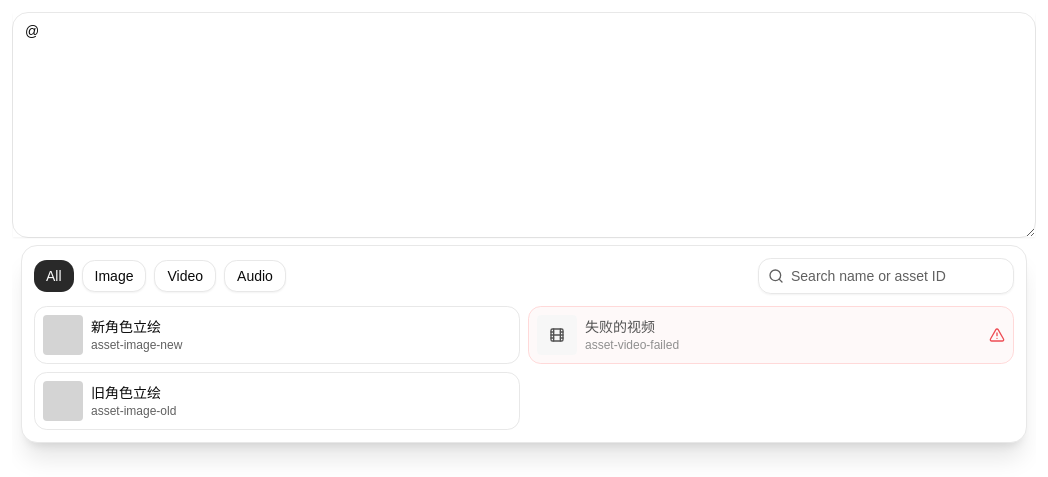
Test: filters by media type and fuzzy searches asset name or id
Click the button "Video" at (185, 276), box [154, 260, 216, 292]
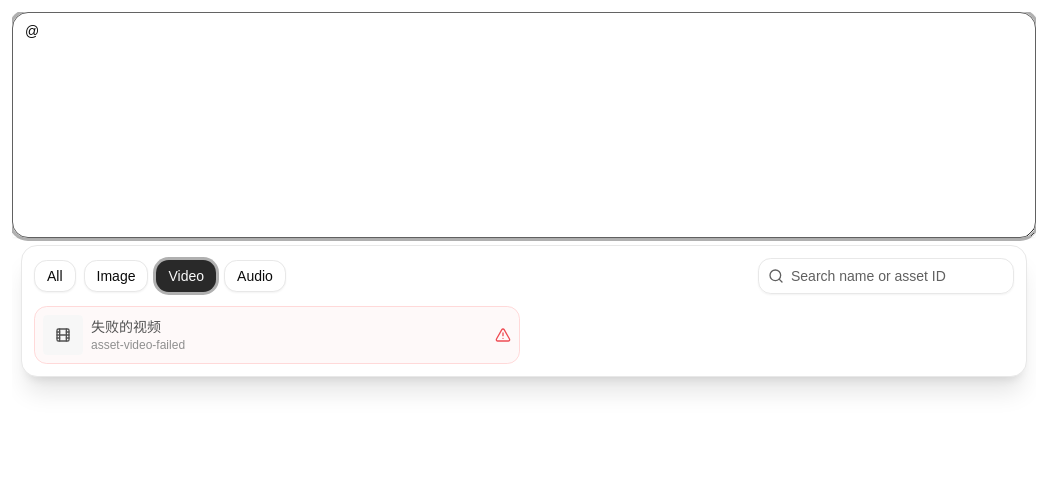
Expected: the text "失败的视频" is shown, [91, 319, 161, 335]
Now the option "新角色立绘" is gone
Click the button "Image" at (116, 276), box [84, 260, 148, 292]
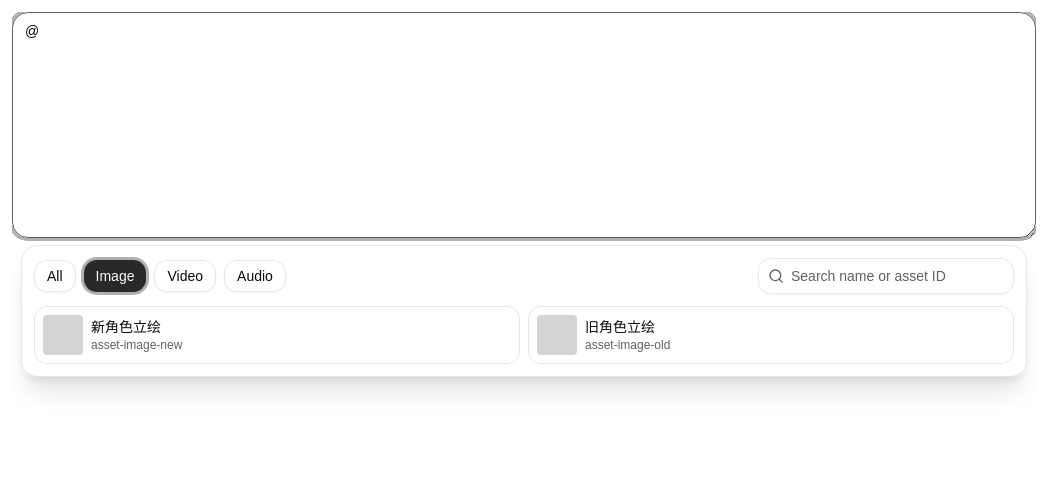
Type "asset-image-old" into the search field at (886, 276), box [758, 258, 1014, 294]
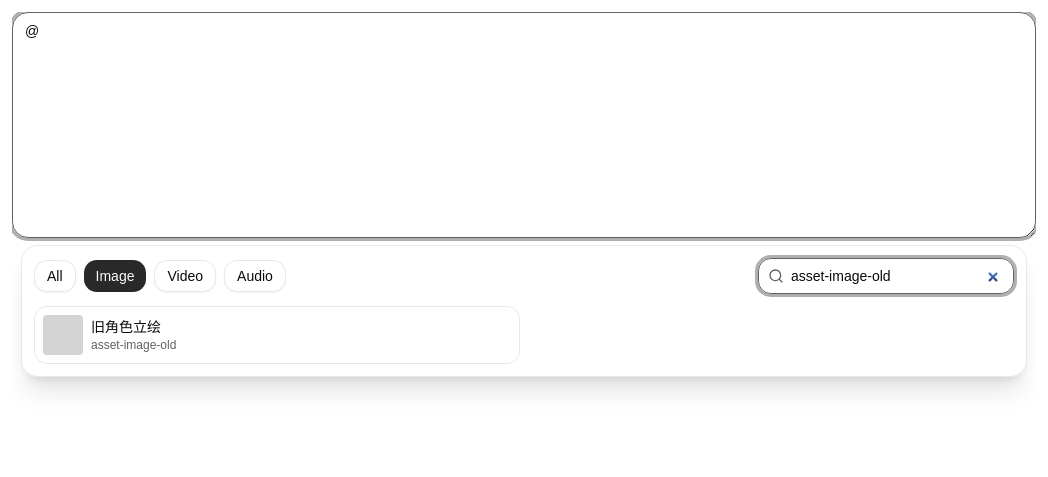
Now the text "旧角色立绘" is shown, box [91, 319, 161, 335]
Now the option "新角色立绘" is gone
